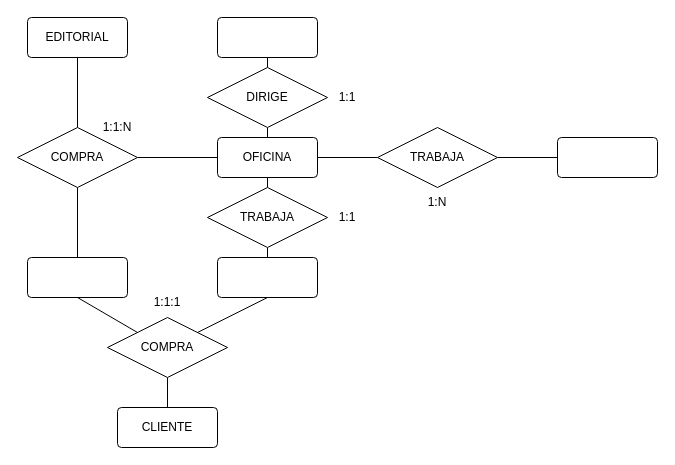
The diagram is 675 pixels wide and 465 high, and some of its shapes have lost their labels. The centre of each missing label's shape, as x and y in pixels:
COMERCIAL: (607,157)
DIRECTOR: (267,37)
LIBRO: (77,277)
VENDEDOR: (267,277)
